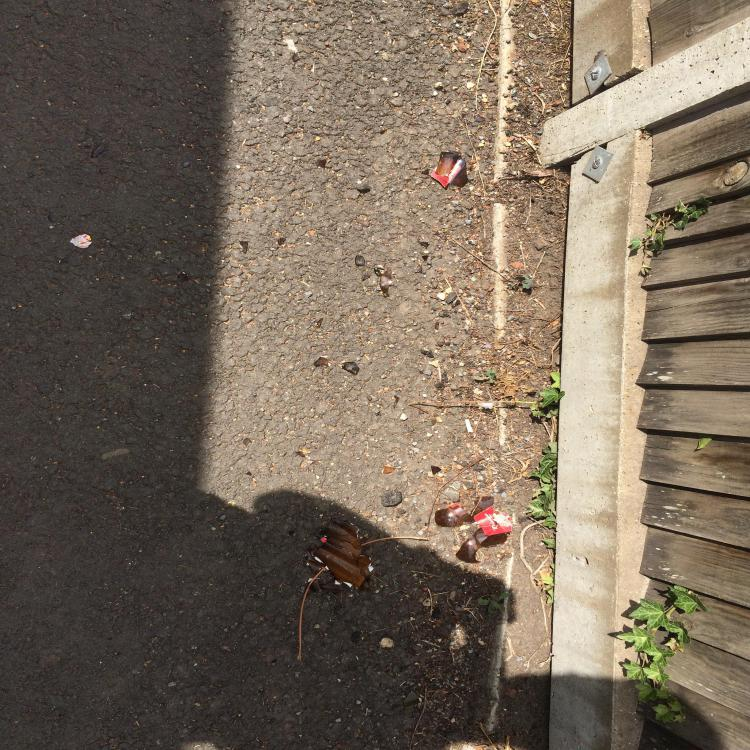Broken glass: (305, 516, 372, 592), (436, 497, 512, 563), (436, 151, 467, 190), (380, 269, 392, 297), (404, 691, 421, 710), (305, 578, 326, 593), (322, 581, 344, 594), (341, 362, 360, 376), (92, 144, 105, 157), (313, 357, 329, 367), (355, 255, 365, 266), (431, 465, 442, 475), (239, 241, 248, 253), (315, 159, 328, 167), (315, 318, 324, 328), (475, 113, 485, 121), (356, 188, 371, 193), (243, 438, 251, 447), (292, 52, 299, 62), (374, 268, 382, 276), (384, 467, 394, 473), (279, 238, 286, 246), (419, 242, 429, 247), (421, 256, 429, 261), (434, 321, 438, 330), (363, 275, 369, 279)
Cigarette: (465, 419, 473, 433)
Unlabeled litter: (70, 234, 91, 248)
